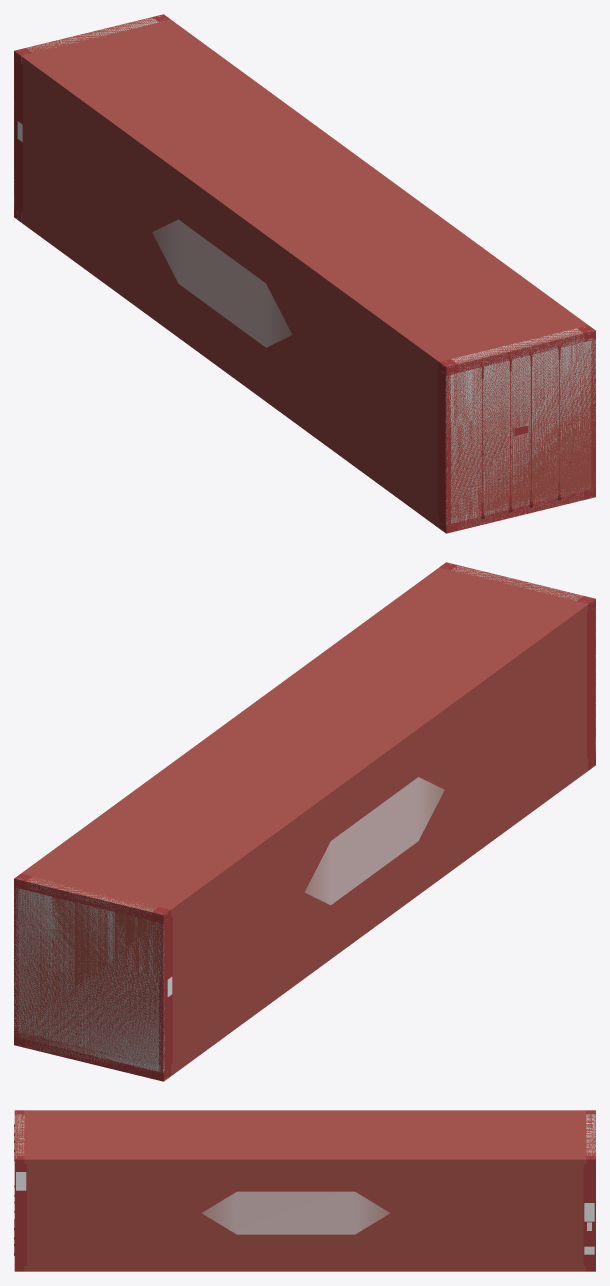
The model's file is s_containers_40_nodeoline.dae.
3 renders of one model, top to bottom at view 1: azimuth 30°, elevation 25°; view 2: azimuth 150°, elevation 25°; view 3: azimuth 270°, elevation 25°, orthographic. The views are drawn at different scales.
Parts seen in each view (by area): view 1: s_containers_40_nodeoline_a40, Colmesh_s_containers_40_nodeoline-1, s_containers_40_nodeoline_a1500, s_containers_40_nodeoline_a150, s_containers_40_nodeoline_a600; view 2: s_containers_40_nodeoline_a40, Colmesh_s_containers_40_nodeoline-1, s_containers_40_nodeoline_a150, s_containers_40_nodeoline_a1500, s_containers_40_nodeoline_a600; view 3: s_containers_40_nodeoline_a40, s_containers_40_nodeoline_a1500, Colmesh_s_containers_40_nodeoline-1, s_containers_40_nodeoline_a600, s_containers_40_nodeoline_a150.
Boxes of the visible parts, x1,y1,x2,y2 form: s_containers_40_nodeoline_a40: (14, 15, 595, 532); Colmesh_s_containers_40_nodeoline-1: (14, 16, 595, 530); s_containers_40_nodeoline_a1500: (14, 14, 595, 533); s_containers_40_nodeoline_a150: (446, 331, 595, 533); s_containers_40_nodeoline_a600: (14, 16, 595, 532); s_containers_40_nodeoline_a40: (14, 563, 595, 1079); Colmesh_s_containers_40_nodeoline-1: (14, 564, 595, 1080); s_containers_40_nodeoline_a150: (14, 879, 163, 1081); s_containers_40_nodeoline_a1500: (14, 562, 595, 1081); s_containers_40_nodeoline_a600: (14, 564, 595, 1080); s_containers_40_nodeoline_a40: (14, 1110, 595, 1271); s_containers_40_nodeoline_a1500: (14, 1110, 595, 1271); Colmesh_s_containers_40_nodeoline-1: (15, 1114, 595, 1157); s_containers_40_nodeoline_a600: (14, 1111, 595, 1271); s_containers_40_nodeoline_a150: (14, 1159, 595, 1271).
Bounding box in the file's own units: 2.48 × 12.21 × 2.59.
